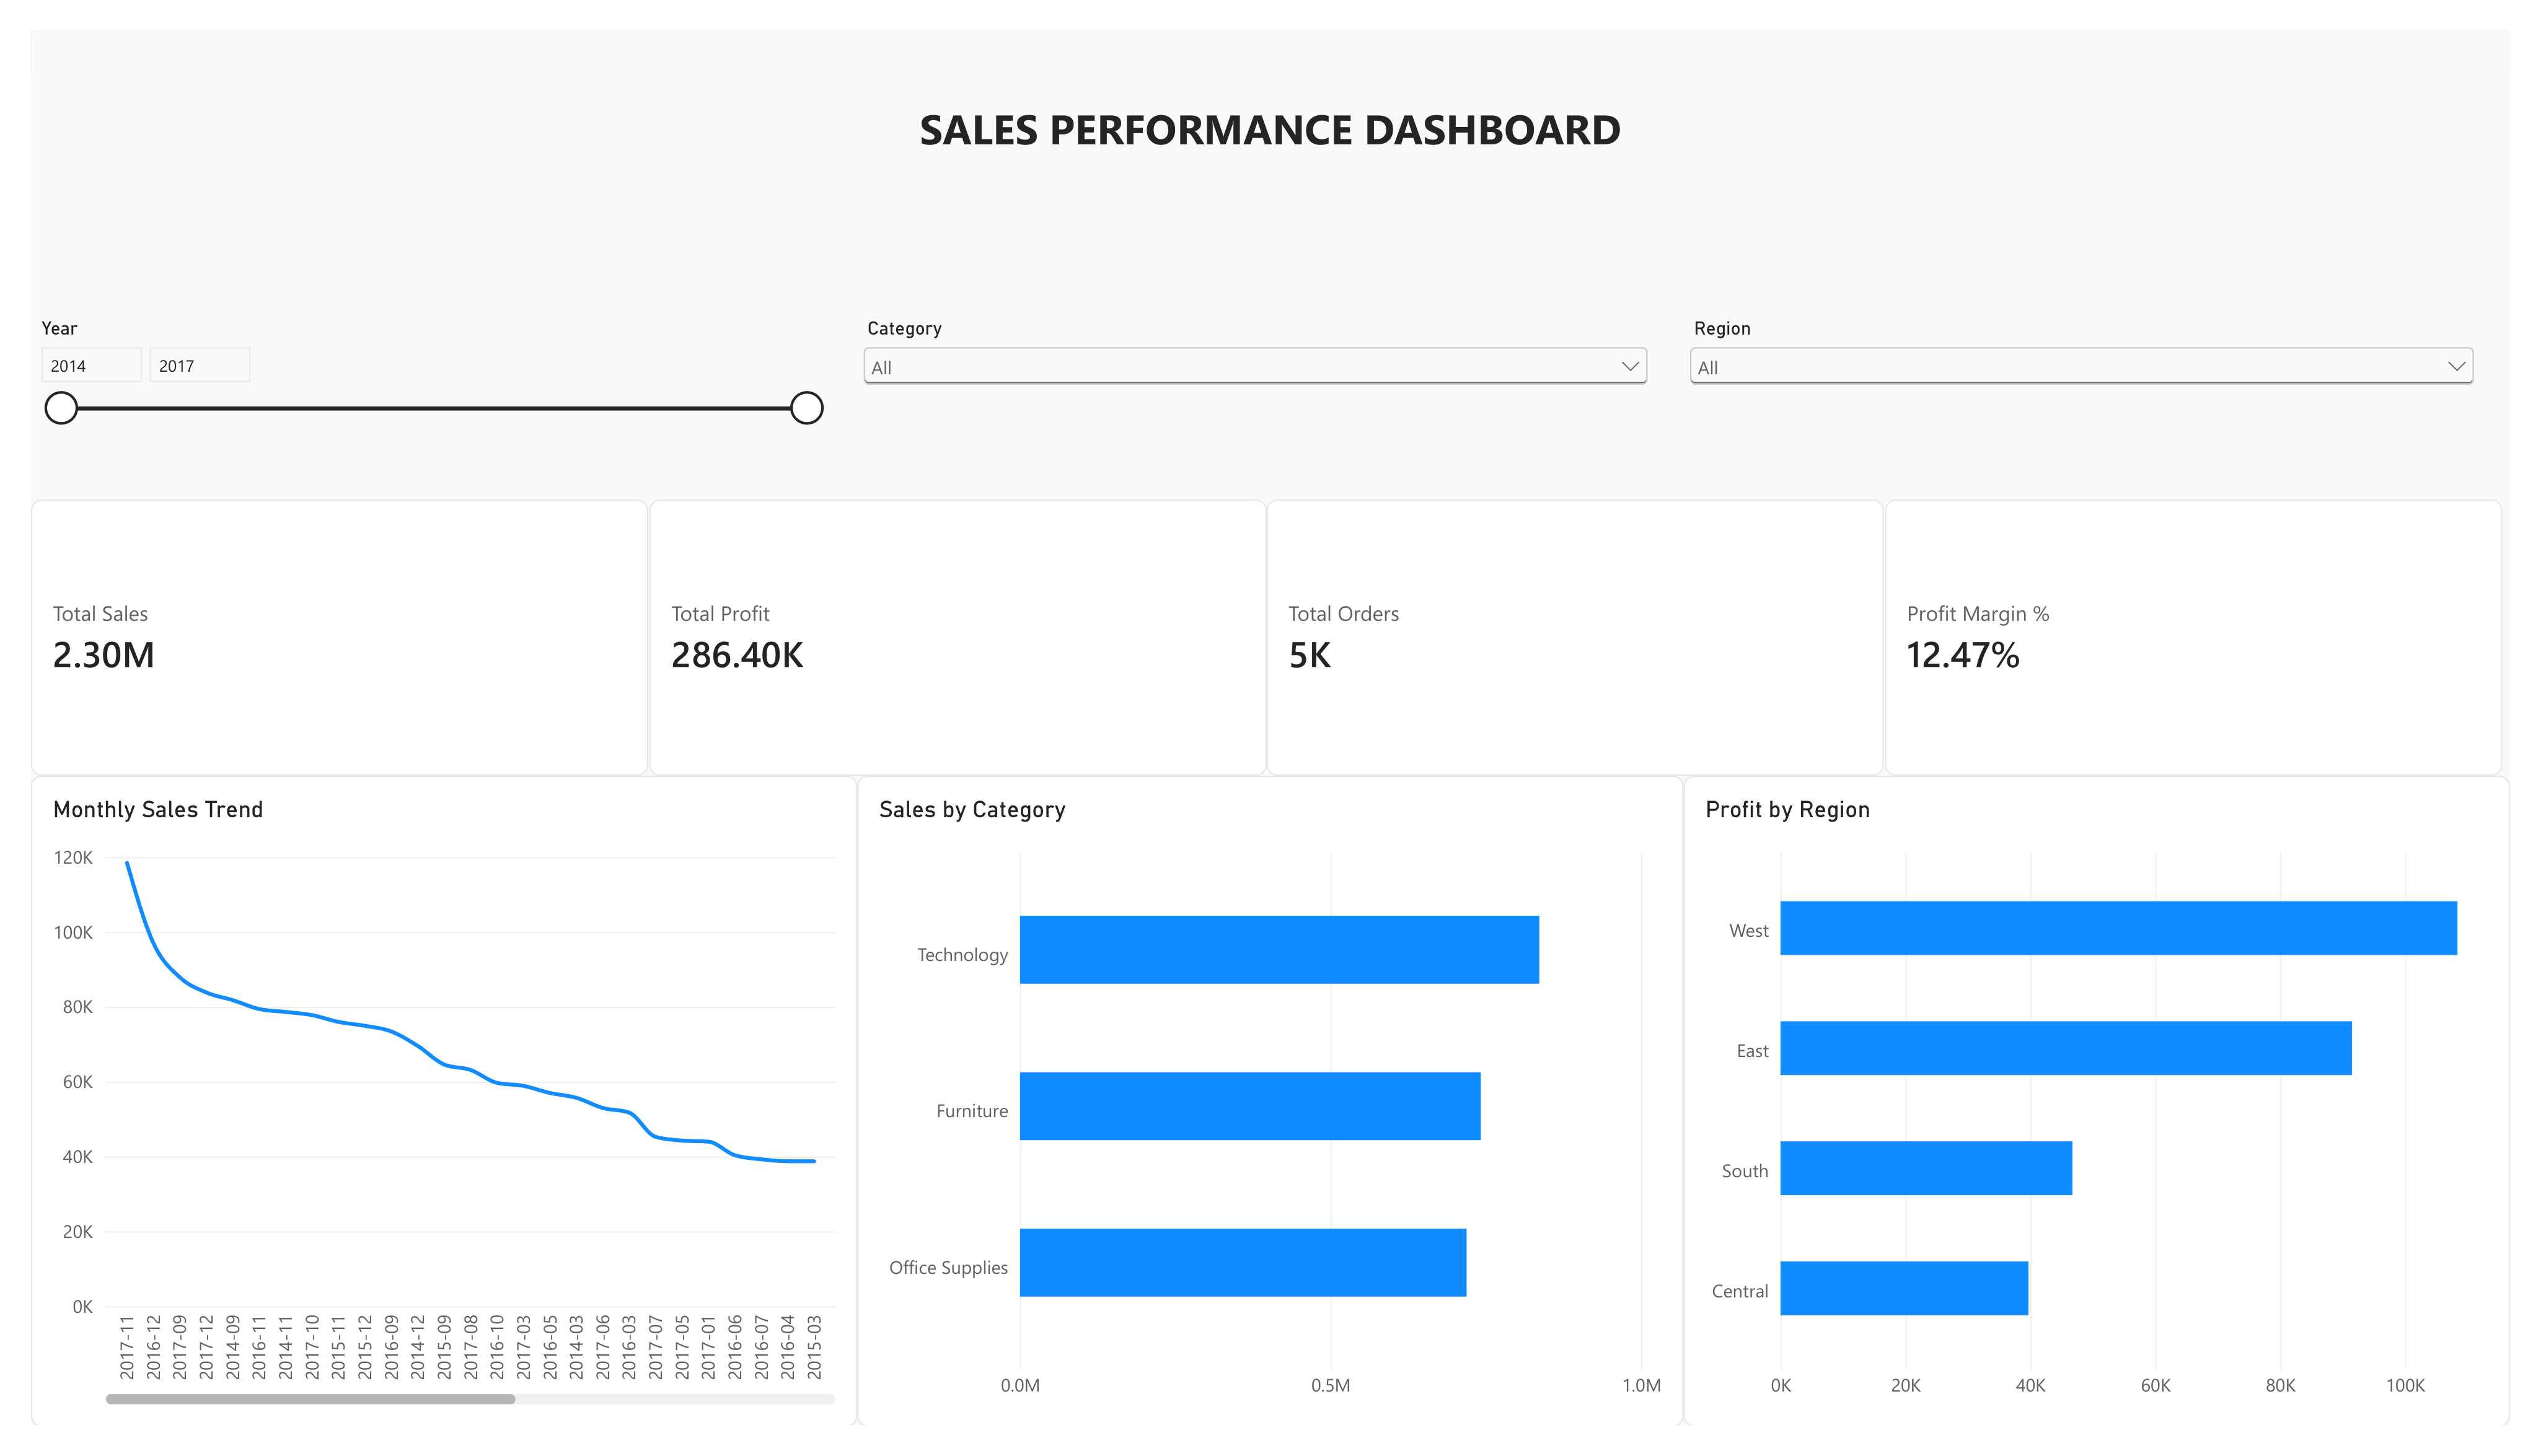

Layout of this report page (visuals, bound fields, positions):
{"tool":"powerbi","page":{"name":"Page 1","canvas":[1920,1080],"ordinal":0},"visuals":[{"type":"cardVisual","fields":{"Data":["DimDate.Total Sales"]},"box":[0,362.8,478,214.2],"z":0},{"type":"cardVisual","fields":{"Data":["DimDate.Total Profit"]},"box":[478.7,362.8,478,214.2],"z":1000},{"type":"cardVisual","fields":{"Data":["DimDate.Total Orders"]},"box":[957.5,362.8,478,214.2],"z":2000},{"type":"cardVisual","fields":{"Data":["DimDate.Profit Margin %"]},"box":[1436.2,362.8,478,214.2],"z":3000},{"type":"lineChart","title":"Monthly Sales Trend","fields":{"Category":["DimDate.Year Month"],"Y":["DimDate.Total Sales"]},"box":[0,577,640,503.9],"z":4000},{"type":"clusteredBarChart","title":"Sales by Category","fields":{"Category":["superstore.Category"],"Y":["DimDate.Total Sales"]},"box":[640,577,640,503.9],"z":5000},{"type":"clusteredBarChart","title":"Profit by Region","fields":{"Category":["superstore.Region"],"Y":["DimDate.Total Profit"]},"box":[1280,577,640,503.9],"z":6000},{"type":"slicer","fields":{"Values":["DimDate.Year"]},"box":[0,221.7,617,141.1],"z":7000},{"type":"slicer","fields":{"Values":["superstore.Region"]},"box":[1280,221.7,617,141.1],"z":8000},{"type":"slicer","fields":{"Values":["superstore.Category"]},"box":[640,221.7,617,141.1],"z":9000},{"type":"textbox","box":[0,52.9,1920,151.2],"z":9001}]}

Visuals, with their boxes on the page's 1920x1080 design canvas (x1, y1, x2, y2). These are canvas units, not pixel positions in the 2541x1456 screenshot, which may show the page scaled, cropped or inside an application window:
cardVisual - DimDate.Total Sales: 0/363/478/577
cardVisual - DimDate.Total Profit: 479/363/957/577
cardVisual - DimDate.Total Orders: 958/363/1436/577
cardVisual - DimDate.Profit Margin %: 1436/363/1914/577
"Monthly Sales Trend" lineChart: 0/577/640/1081
"Sales by Category" clusteredBarChart: 640/577/1280/1081
"Profit by Region" clusteredBarChart: 1280/577/1920/1081
slicer - DimDate.Year: 0/222/617/363
slicer - superstore.Region: 1280/222/1897/363
slicer - superstore.Category: 640/222/1257/363
textbox: 0/53/1920/204
